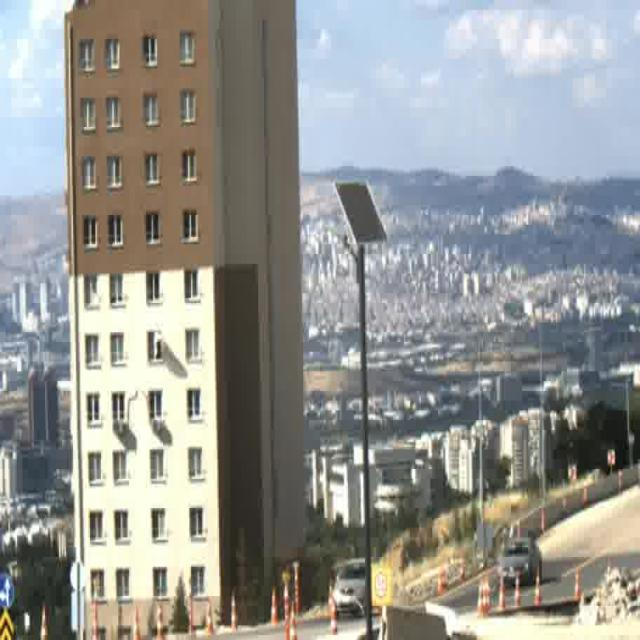Car: (496, 538, 542, 588), (332, 558, 370, 618)
